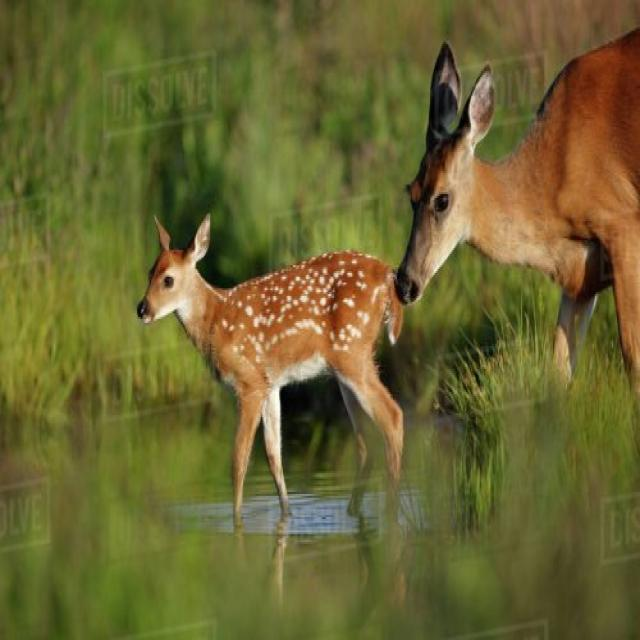not_pig: (393, 15, 639, 432), (136, 210, 406, 524)
